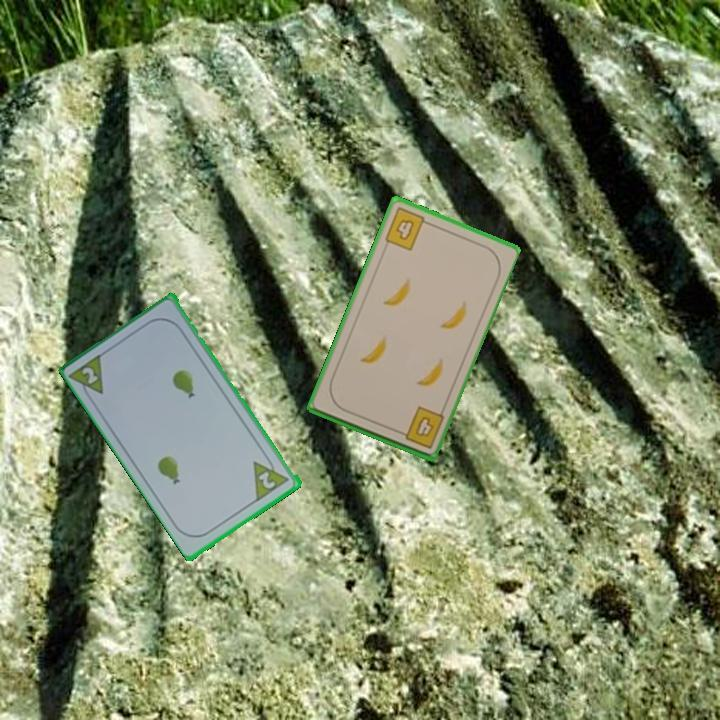2p: (255, 468, 279, 492), (78, 363, 101, 387)
4b: (381, 204, 434, 253), (394, 403, 447, 451)
